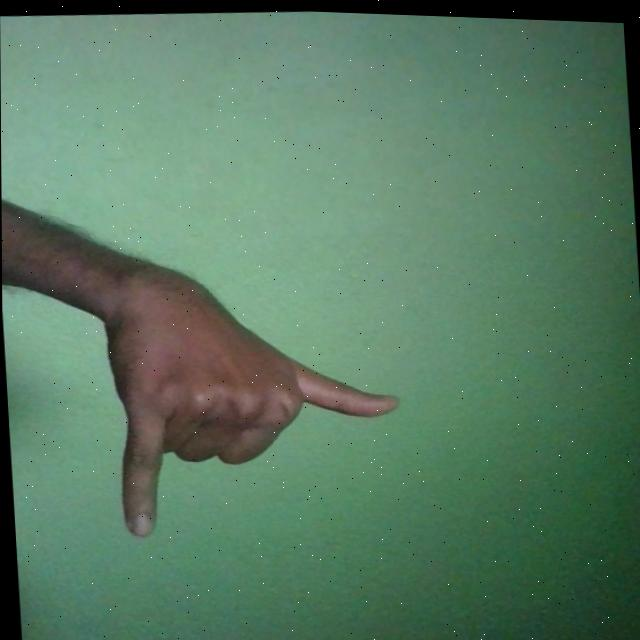Call Me: (98, 238, 410, 544)
